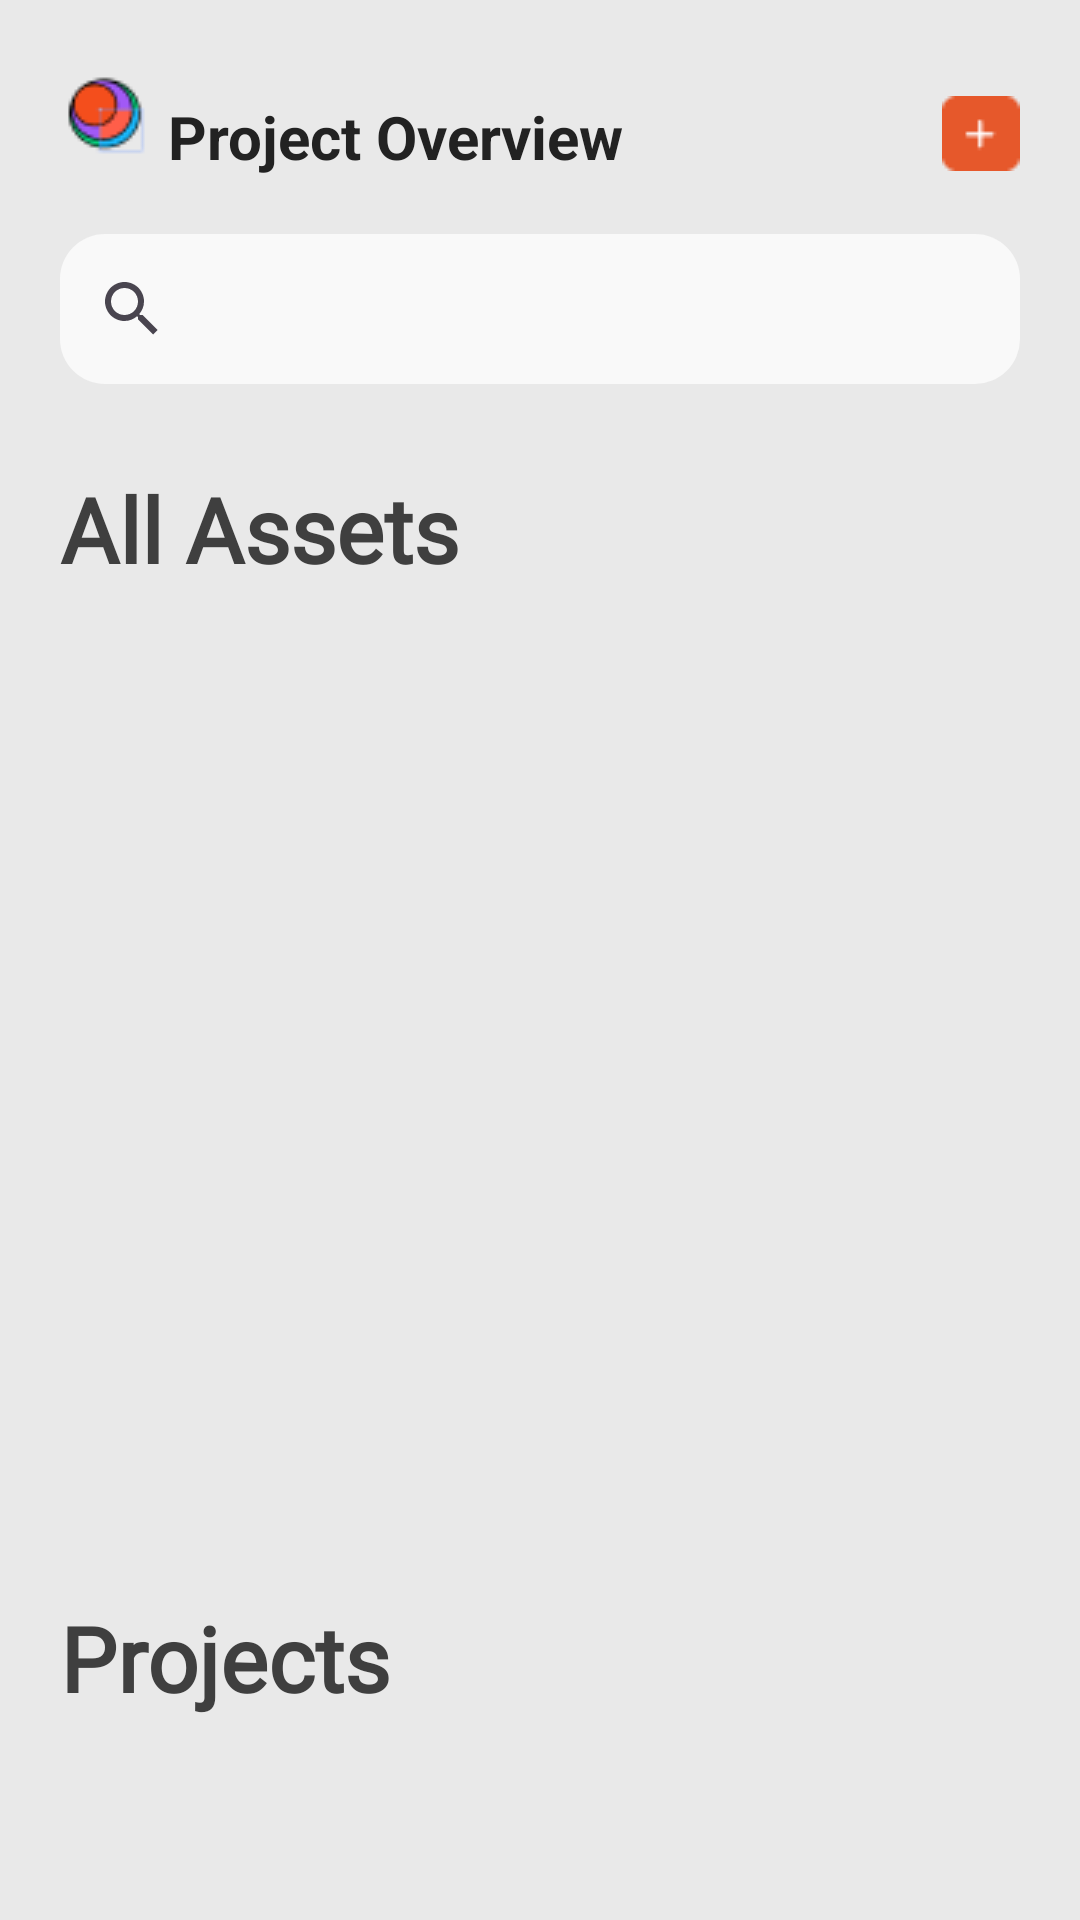

Named icons in this screenshot (1080 x 1920) and their centers, point (x, y):
add folderview: point (981, 133)
